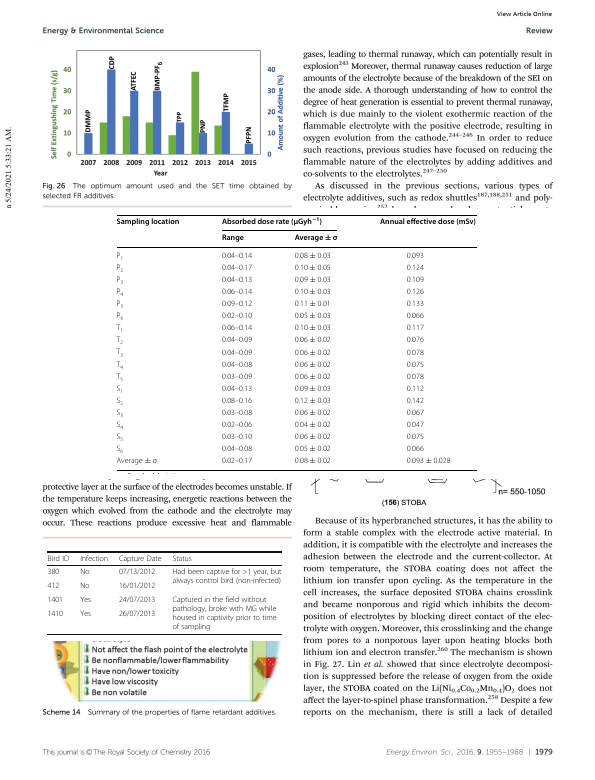borderless: (115, 213, 477, 470), (47, 550, 282, 634)
cell: (171, 595, 277, 632), (171, 567, 282, 586), (221, 216, 323, 227), (379, 217, 477, 227), (116, 217, 180, 227), (294, 233, 338, 243), (406, 457, 452, 466), (118, 554, 162, 563), (115, 457, 158, 466), (294, 251, 332, 261), (294, 263, 332, 273), (294, 372, 332, 382), (294, 384, 332, 394), (118, 567, 156, 577), (118, 581, 156, 591), (118, 595, 156, 605), (118, 609, 156, 619), (294, 276, 332, 285), (294, 288, 332, 297), (294, 300, 332, 309), (294, 312, 332, 321), (294, 324, 332, 333), (294, 336, 332, 345), (294, 348, 332, 357), (294, 360, 332, 369), (294, 397, 332, 406), (294, 409, 332, 418), (294, 421, 332, 430), (294, 433, 332, 442), (294, 445, 332, 454), (294, 457, 332, 466), (221, 251, 253, 261), (221, 263, 253, 273), (221, 372, 253, 382), (221, 384, 253, 394), (221, 276, 253, 285), (221, 288, 253, 297), (221, 300, 253, 309), (221, 312, 253, 321), (221, 324, 253, 333), (221, 336, 253, 345), (221, 348, 253, 357), (221, 360, 253, 369), (221, 397, 253, 406), (221, 409, 253, 418), (221, 421, 253, 430), (221, 433, 253, 442), (221, 445, 253, 454), (221, 457, 253, 466), (79, 554, 109, 563), (221, 233, 245, 243), (47, 554, 70, 563), (171, 554, 193, 563), (406, 251, 425, 261), (406, 263, 425, 273), (406, 372, 425, 382), (406, 384, 425, 394), (406, 276, 425, 285), (406, 288, 425, 297), (406, 300, 425, 309), (406, 312, 425, 321), (406, 324, 425, 333), (406, 336, 425, 345), (406, 348, 425, 357), (406, 360, 425, 369), (406, 397, 425, 406), (406, 409, 425, 418), (406, 421, 425, 430), (406, 433, 425, 442), (406, 445, 425, 454), (47, 595, 64, 605), (47, 609, 64, 619), (47, 567, 60, 577), (47, 581, 60, 591), (79, 595, 92, 605), (79, 609, 92, 619), (79, 567, 90, 577), (79, 581, 90, 591), (115, 324, 124, 335), (115, 336, 124, 347), (115, 348, 124, 359), (115, 360, 124, 371), (115, 372, 124, 383), (115, 384, 124, 395), (115, 433, 124, 444), (115, 445, 124, 456), (115, 397, 124, 407), (115, 409, 124, 419), (115, 421, 124, 431), (116, 251, 124, 262), (116, 263, 124, 274), (116, 312, 124, 323), (116, 276, 124, 286), (116, 288, 124, 298), (116, 300, 124, 310)
